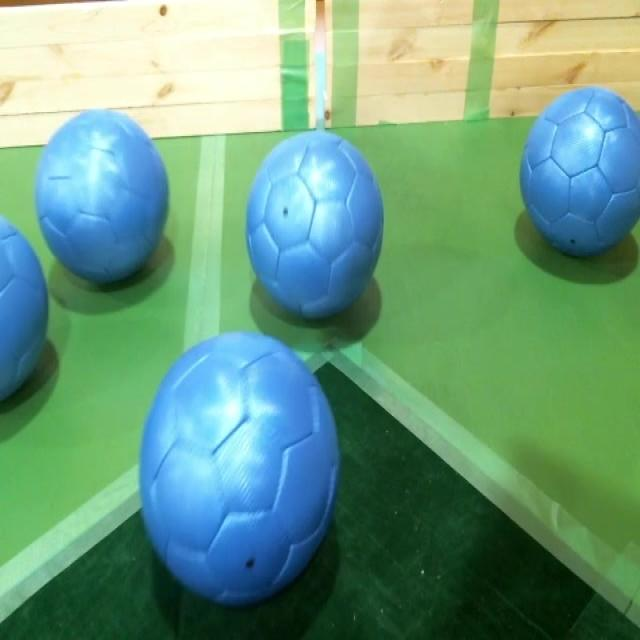blue_ball: (138, 332, 343, 609), (245, 135, 386, 324), (37, 107, 168, 280), (516, 91, 640, 260), (0, 222, 44, 399)
